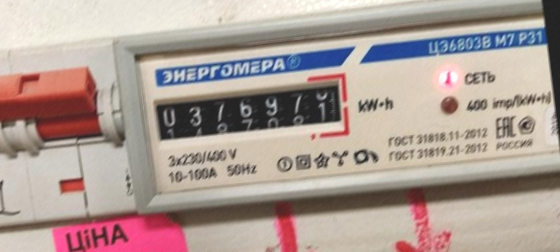0: (159, 104, 178, 127)
1: (316, 100, 329, 122)
3: (186, 103, 203, 128)
6: (238, 95, 253, 117)
7: (212, 97, 228, 123), (289, 90, 304, 114)
9: (263, 93, 278, 116)
screen: (146, 69, 356, 161)
